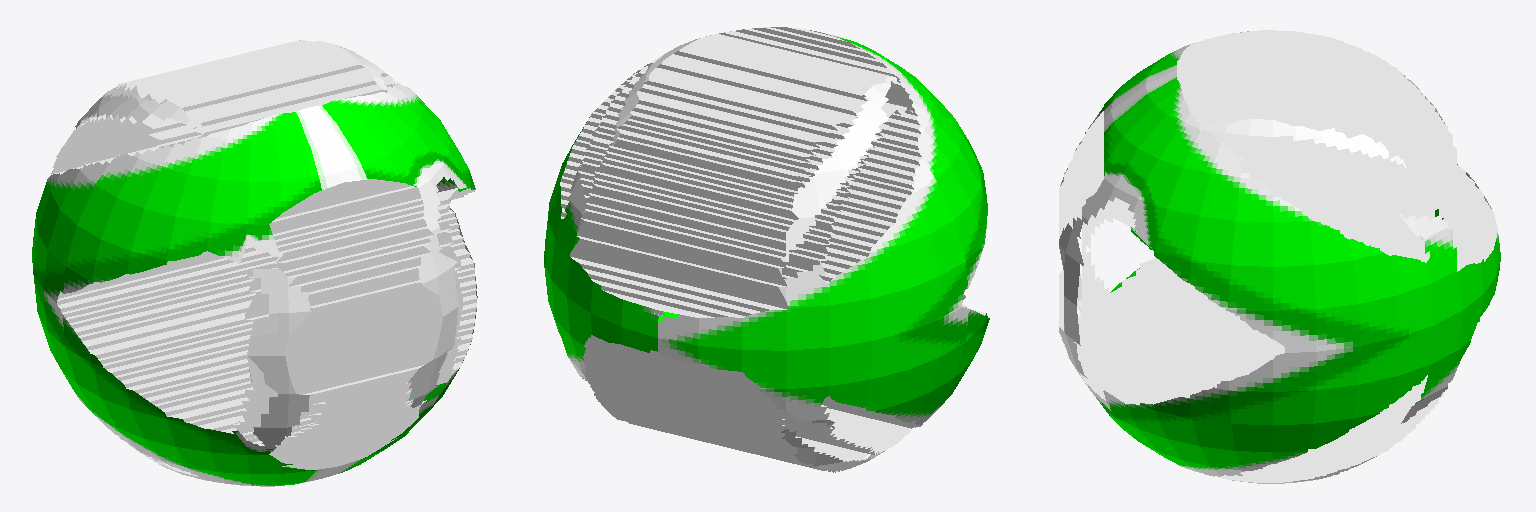
3 views of the same model, side by side, from view 1: azimuth 30°, elevation 25°; view 2: azimuth 150°, elevation 25°; view 3: azimuth 270°, elevation 25° (orthographic).
Parts seen in each view (by area): view 1: Cube; view 2: Cube; view 3: Cube.
Boxes of the visible parts, x1=… form: Cube: x1=32, y1=40, x2=477, y2=486; Cube: x1=544, y1=27, x2=989, y2=472; Cube: x1=1059, y1=30, x2=1500, y2=483.
Bounding box in the file's own units: 1.99 × 1.8 × 1.93.
Materials: 1 (1 with a texture image).